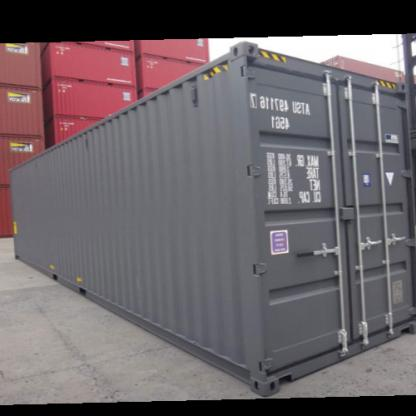Damage: (16, 156, 42, 168), (80, 131, 94, 151)
